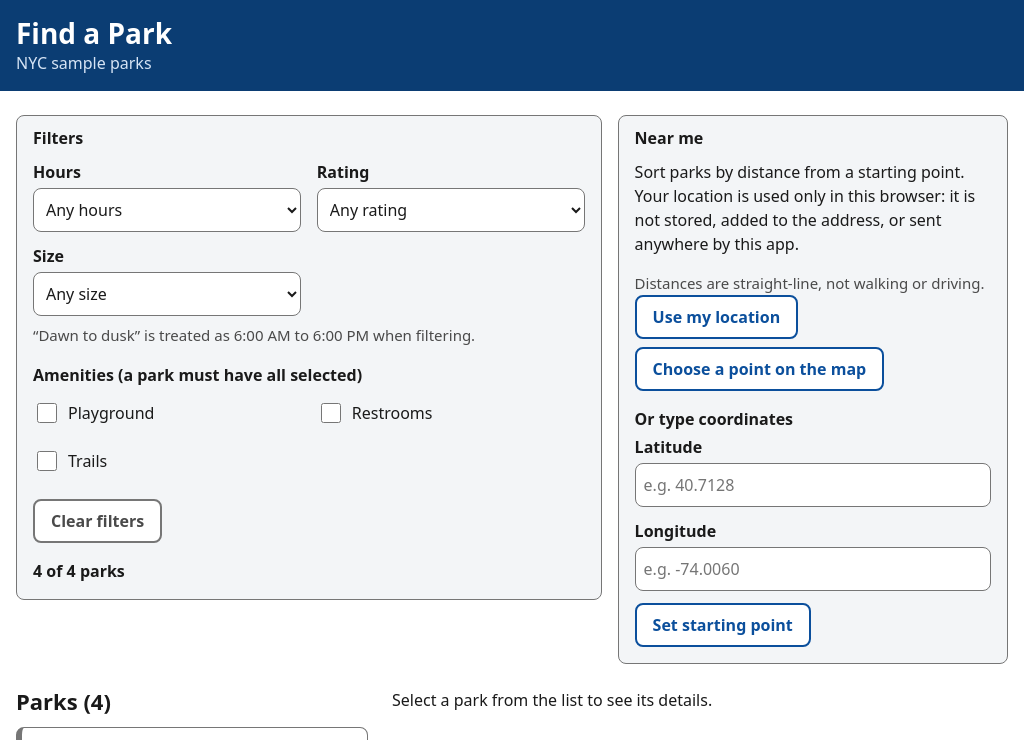
Scenario: App filters › filters the list, updates the URL, announces the count, and keeps focus
The image size is (1024, 740).
Select "4 or higher" in the dropdown labelled "Rating" at (451, 210), box [317, 188, 585, 232]
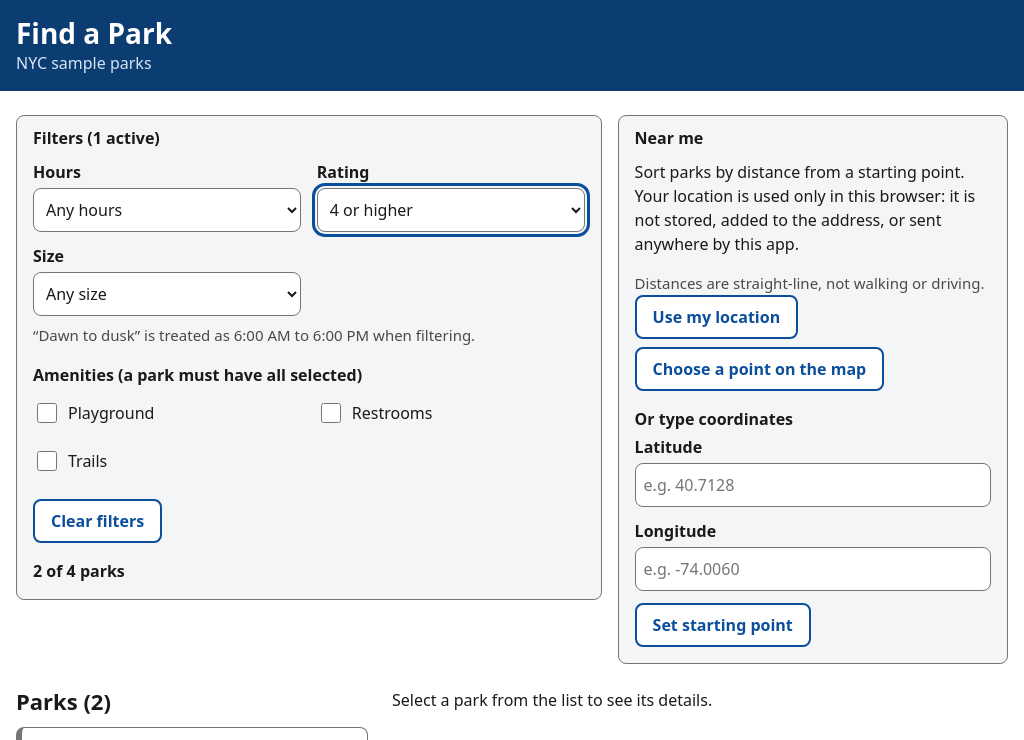
Check: the heading "Parks (2)" is shown, box [16, 686, 111, 716]
